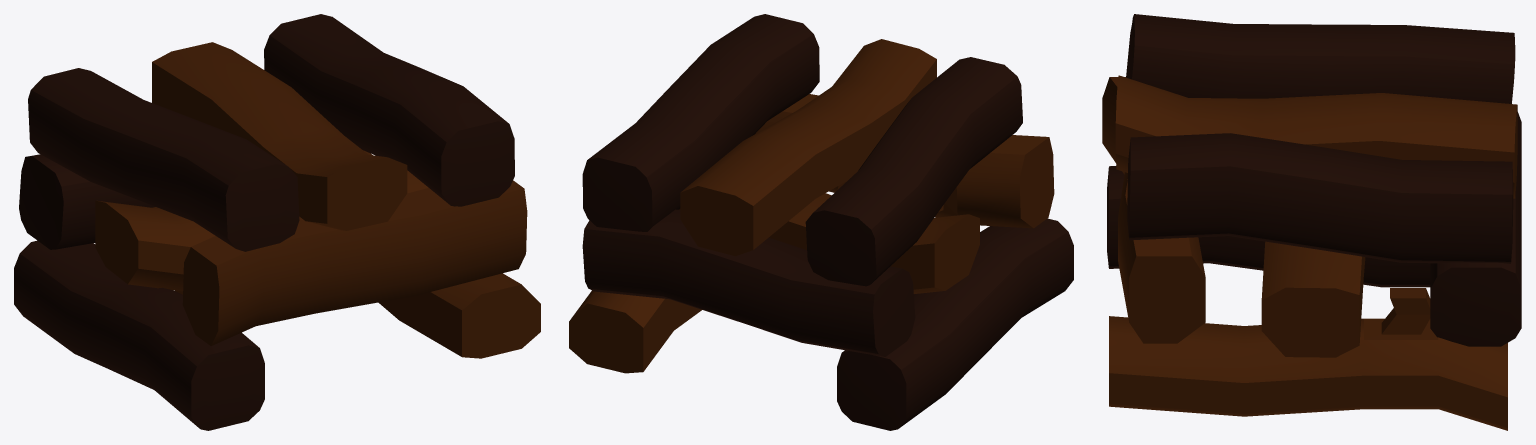
Rendered from Log_Pile.FBX.
The picture shows the model from 3 angles, left to right: view 1: azimuth 30°, elevation 25°; view 2: azimuth 150°, elevation 25°; view 3: azimuth 270°, elevation 25°; orthographic projection. The views are drawn at different scales.
Visible parts, largest first — view 1: Log 003, Log 007, Log 006, Log 2, Log 008, Log 1, Log 005, Log 004; view 2: Log 004, Log 006, Log 007, Log 008, Log 2, Log 003, Log 1, Log 005; view 3: Log 006, Log 1, Log 007, Log 008, Log 005, Log 003, Log 004, Log 2.
Boxes of the visible parts, x1,y1,x2,y2 form: Log 003: [182, 180, 527, 345]; Log 007: [28, 68, 299, 251]; Log 006: [264, 14, 514, 206]; Log 2: [14, 240, 264, 430]; Log 008: [152, 42, 407, 230]; Log 1: [363, 150, 540, 358]; Log 005: [95, 170, 428, 294]; Log 004: [19, 154, 155, 249]; Log 004: [582, 209, 915, 356]; Log 006: [582, 14, 819, 231]; Log 007: [805, 57, 1022, 286]; Log 008: [680, 39, 936, 256]; Log 2: [837, 218, 1073, 430]; Log 003: [755, 94, 1054, 228]; Log 1: [569, 290, 701, 373]; Log 005: [679, 193, 979, 293]; Log 006: [1127, 133, 1513, 263]; Log 1: [1109, 288, 1507, 430]; Log 007: [1126, 14, 1515, 103]; Log 008: [1115, 75, 1517, 198]; Log 005: [1261, 241, 1365, 357]; Log 003: [1102, 77, 1205, 343]; Log 004: [1430, 112, 1521, 346]; Log 2: [1107, 166, 1430, 287].
Size of the model in its own units: 79.18 by 55.34 by 76.29.
